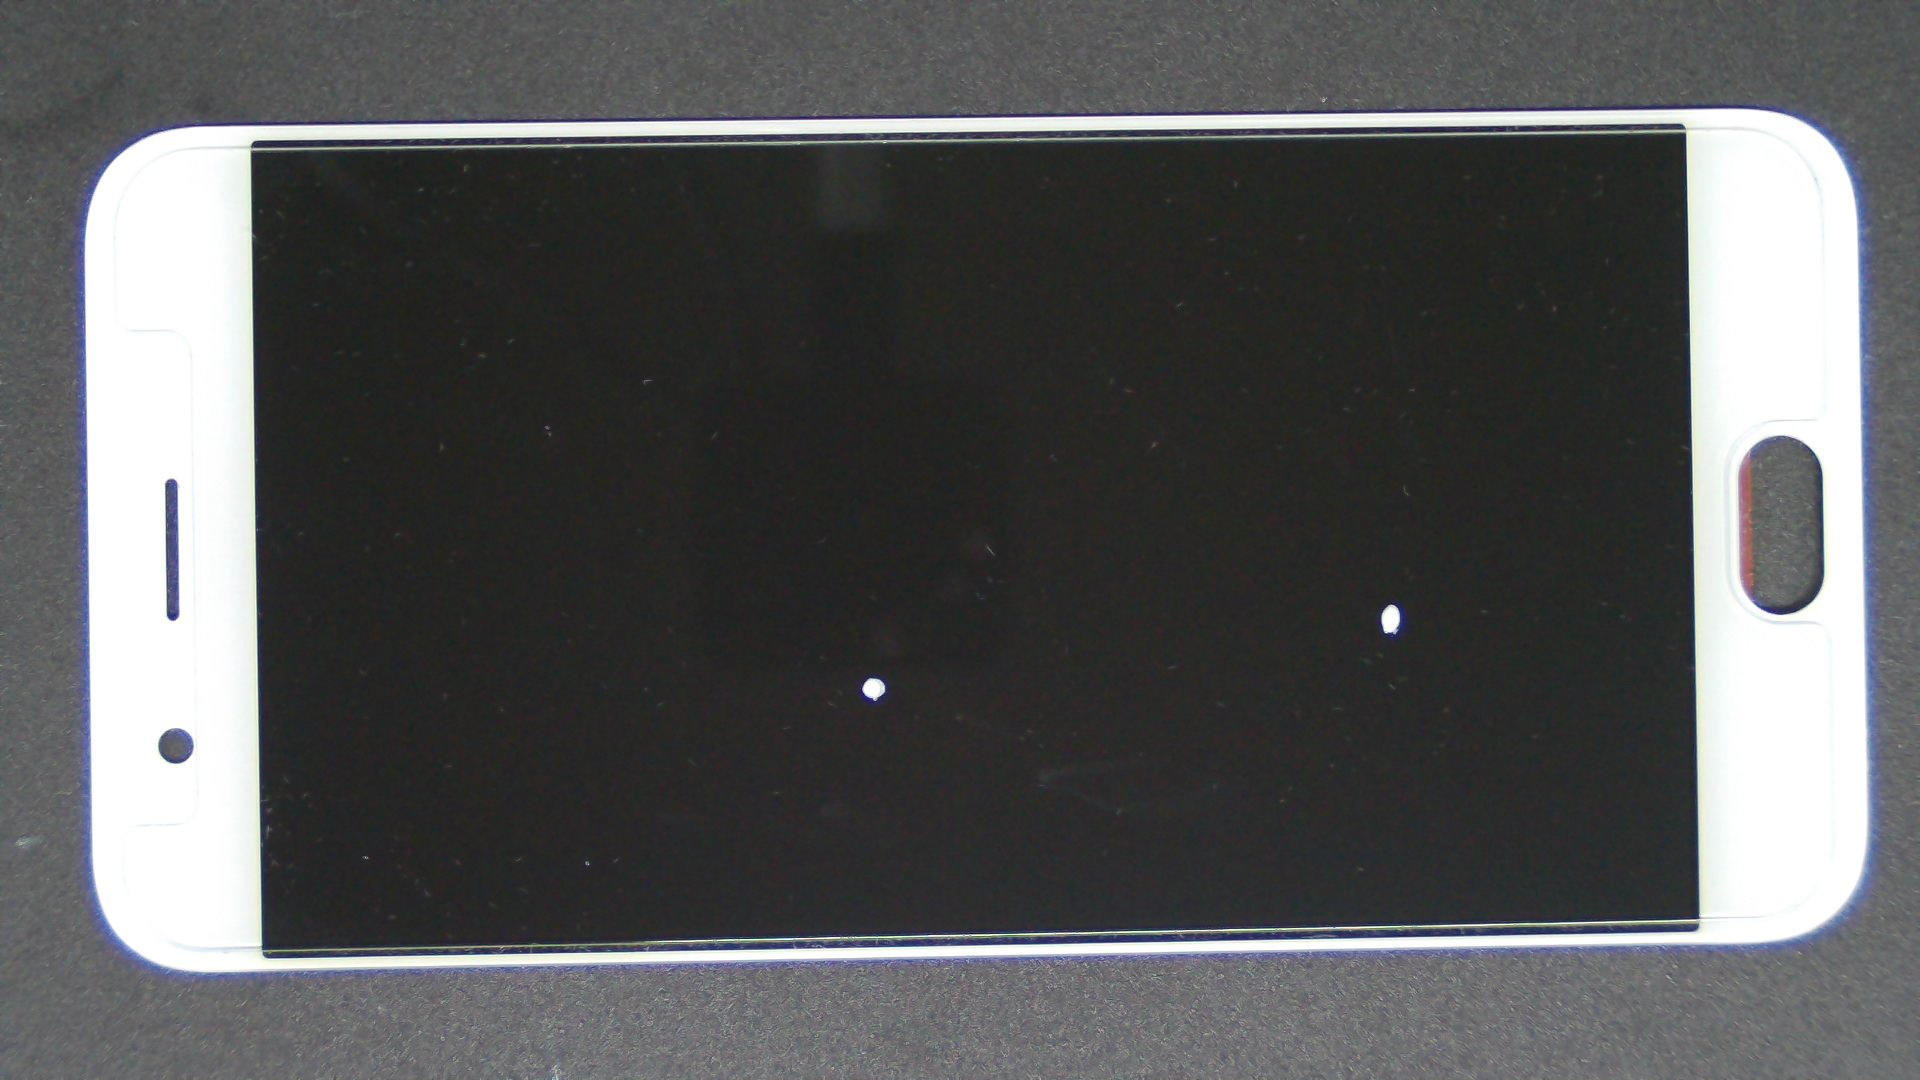oil: (696, 299, 1920, 907), (436, 338, 1305, 1014)
